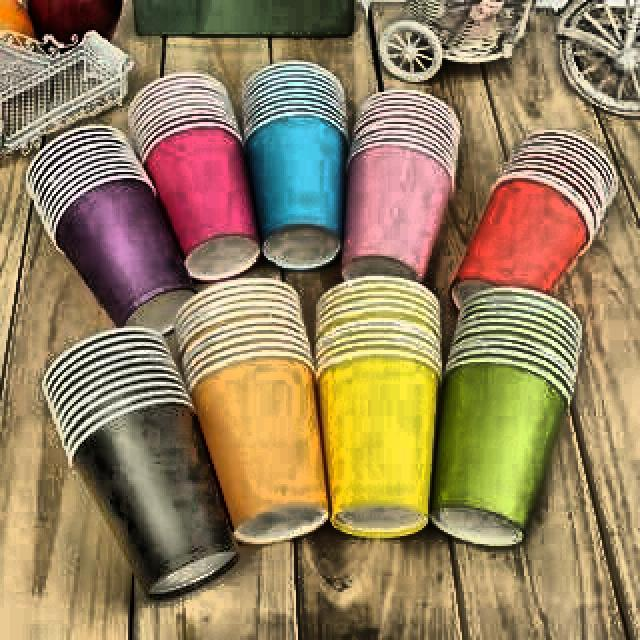Cup: (28, 331, 244, 609), (165, 282, 337, 546), (430, 281, 585, 550), (13, 121, 200, 341), (310, 282, 452, 543), (464, 115, 625, 336), (122, 65, 271, 292), (235, 55, 350, 283), (347, 71, 451, 299)
